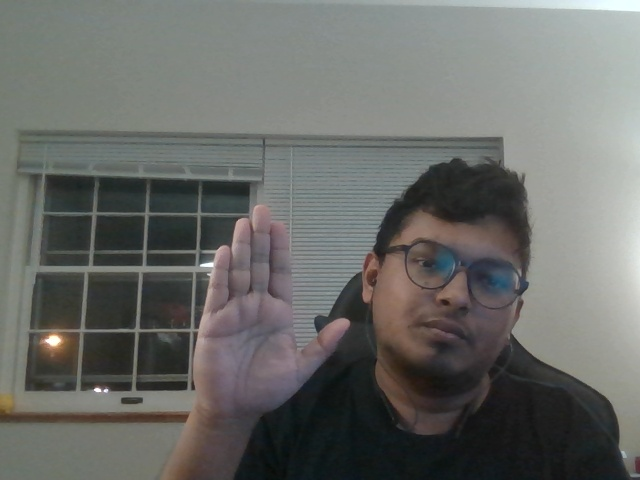hello: (181, 185, 355, 417)
